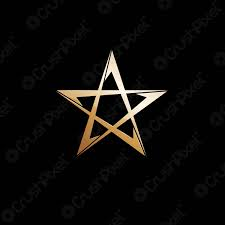star: (49, 35, 172, 162)
